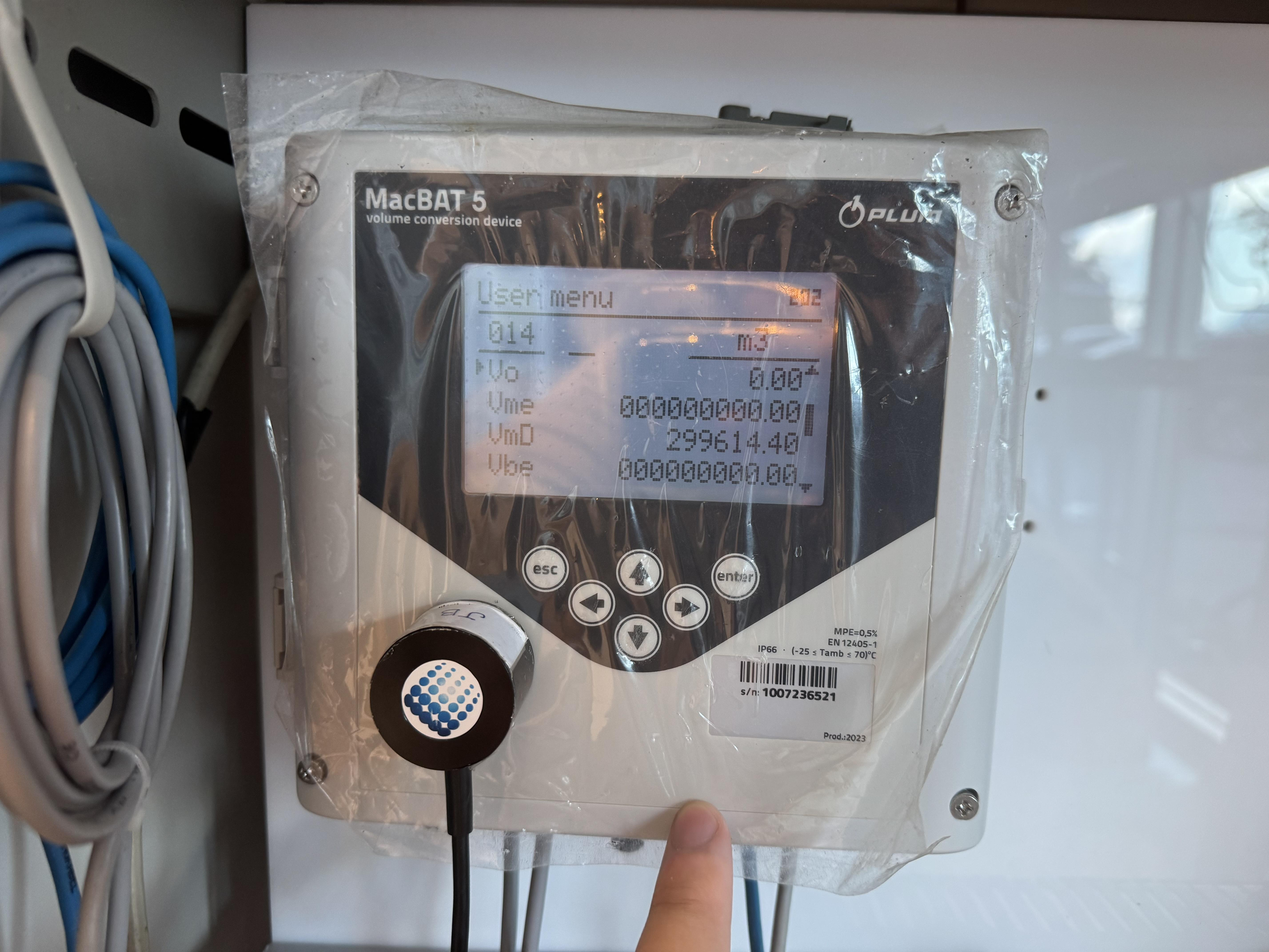digital_screen: (456, 261, 838, 504)
